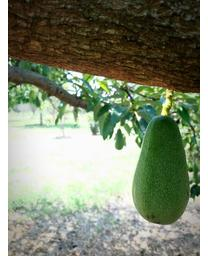avocado: (131, 115, 190, 226)
